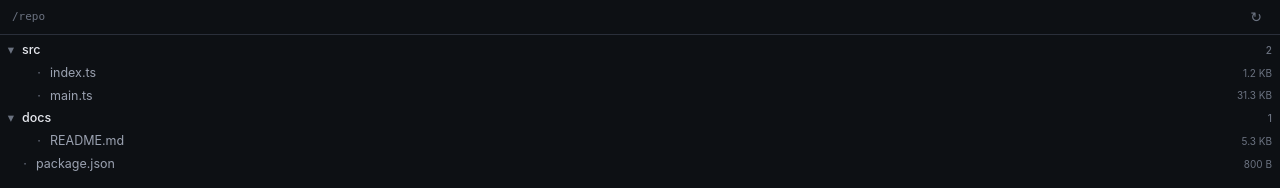
FileTree › clicking a directory toggles open/closed
Already open (depth 1). Click closes.
Click the text "src": x=31, y=50 left=22, top=42, right=40, bottom=57
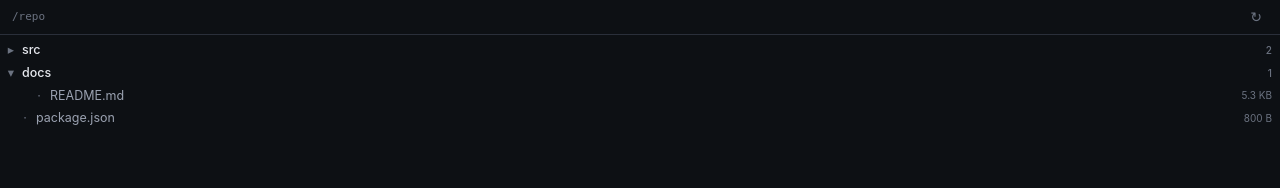
Expected: the text "index.ts" is gone
Click again to reopen.
Click the text "src": x=31, y=50 left=22, top=42, right=40, bottom=57
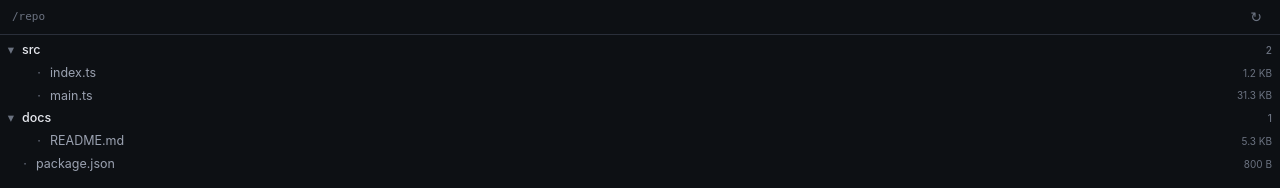
Expected: the text "index.ts" is shown, left=50, top=65, right=96, bottom=80
